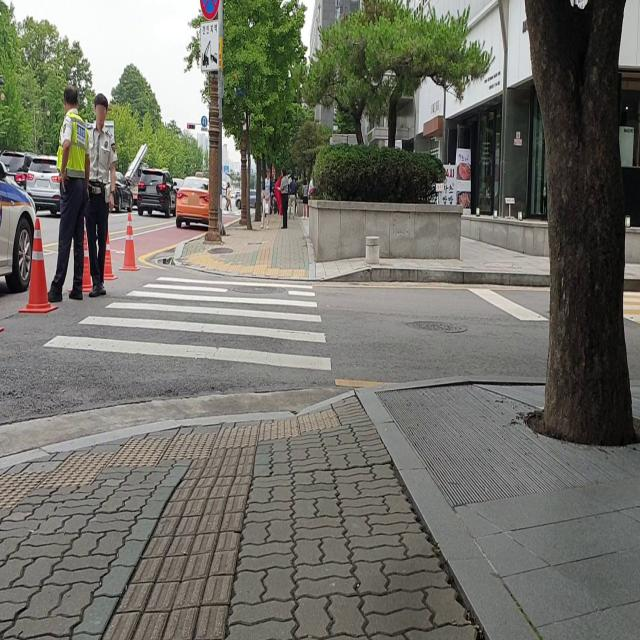횡단보도: (41, 274, 333, 375)
